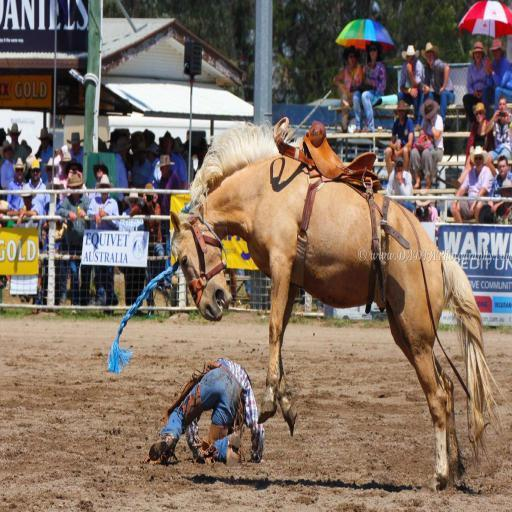horse: (170, 116, 506, 492)
